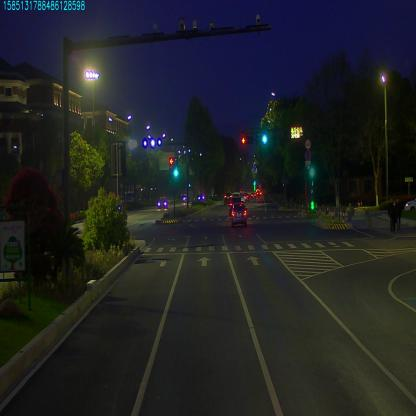traffic-light: (241, 135, 249, 146), (261, 134, 268, 142)
